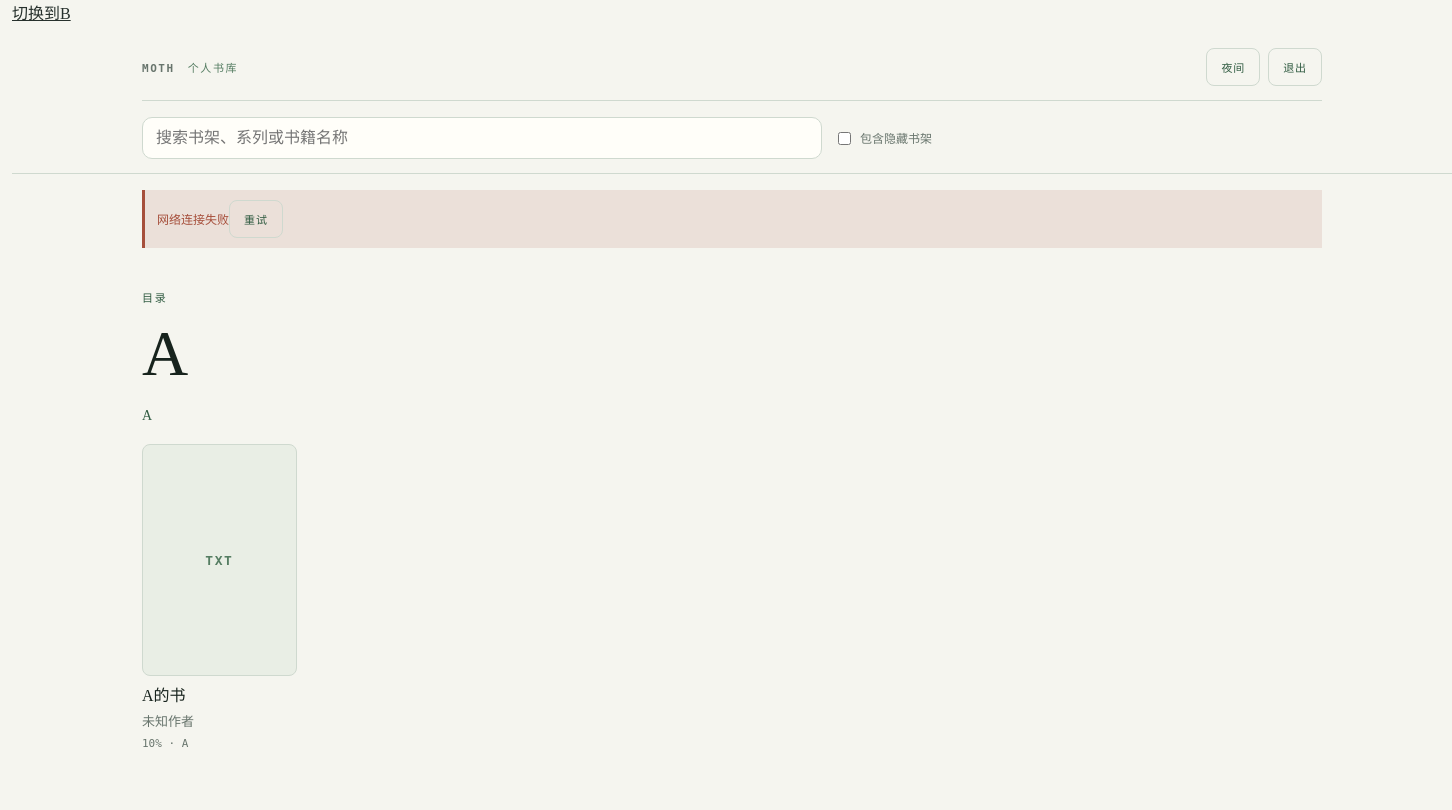
Test: library navigation › keeps a cached directory visible on refresh failure and supports retry
The image size is (1452, 810).
Expected: the message shows "网络连接失败", [157, 213, 229, 227]
Expected: the link "TXT A的书 未知作者 10% · A" is shown, [142, 444, 297, 750]
Click the button "重试": (256, 219) [229, 200, 283, 238]
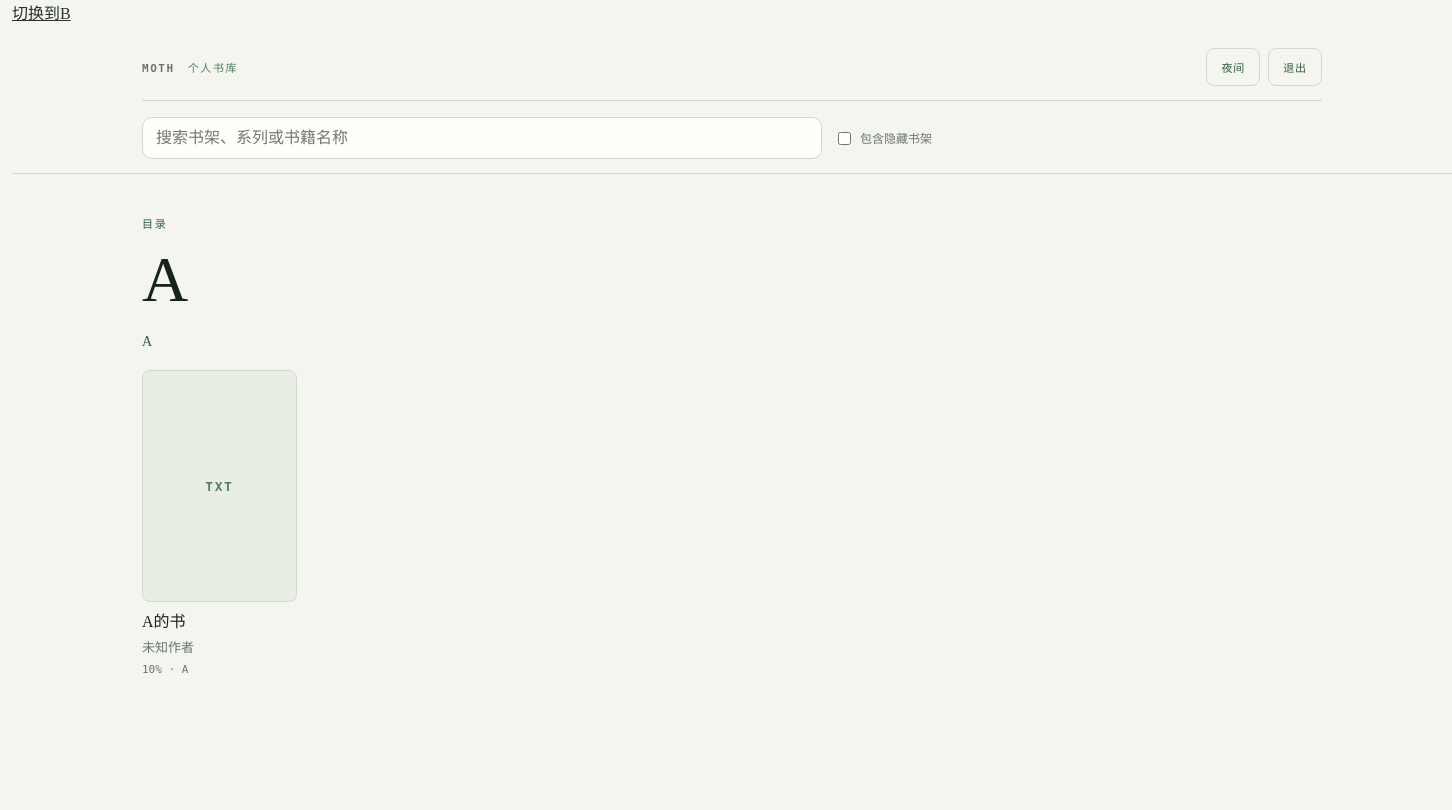
Expected: the message "网络连接失败 重试" is gone
